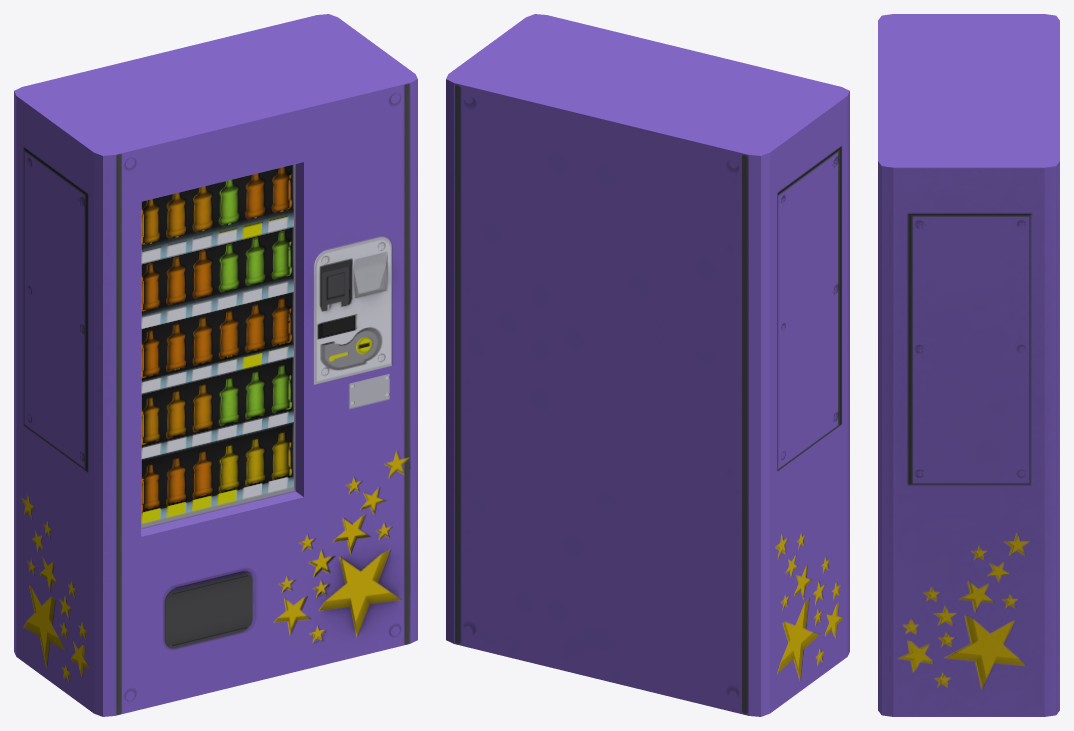
File: expendedora.obj
The picture shows the model from 3 angles, left to right: view 1: azimuth 30°, elevation 25°; view 2: azimuth 150°, elevation 25°; view 3: azimuth 270°, elevation 25°; orthographic projection. The views are drawn at different scales.
Visible parts, largest first — view 1: Box003; view 2: Box003; view 3: Box003.
Part boxes in pixels (x1,y1,x2,y2): Box003: (14,14,417,716); Box003: (446,14,849,716); Box003: (878,14,1059,716).
Bounding box in the file's own units: 1.2 × 2 × 0.6.
